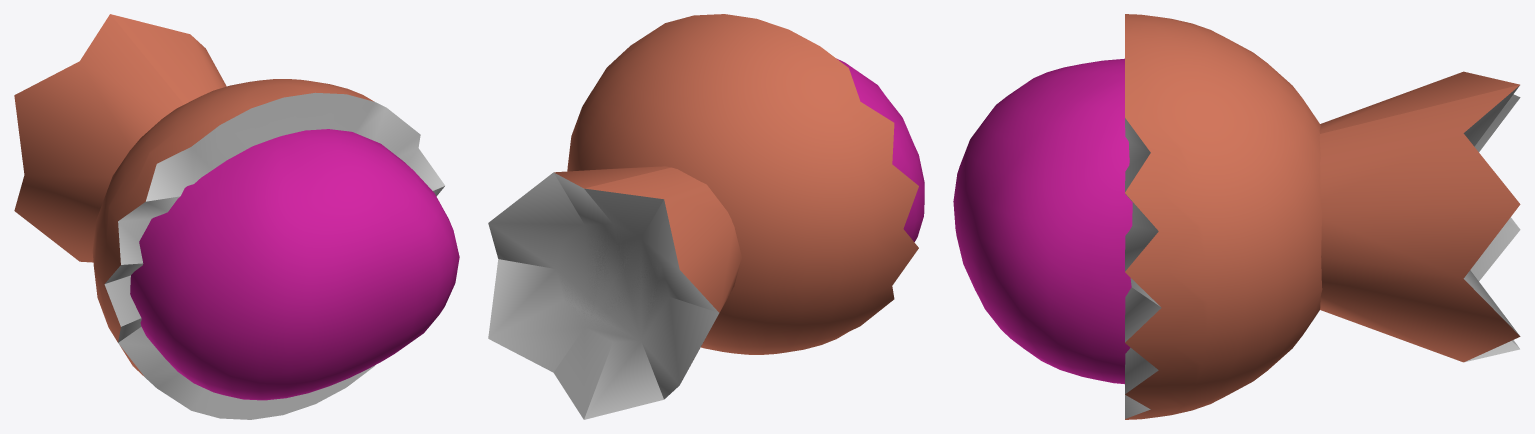
Rendered from CandyOpen.fbx.
3 renders of one model, left to right at view 1: azimuth 30°, elevation 25°; view 2: azimuth 150°, elevation 25°; view 3: azimuth 270°, elevation 25°, orthographic. The views are drawn at different scales.
Parts seen in each view (by area): view 1: CandyOpen; view 2: CandyOpen; view 3: CandyOpen.
Boxes of the visible parts, box(x1,y1,x2,y2) form: CandyOpen: box(14, 14, 459, 419); CandyOpen: box(488, 14, 924, 419); CandyOpen: box(953, 14, 1520, 419).
Bounding box in the file's own units: 81.14 × 107 × 75.69.
